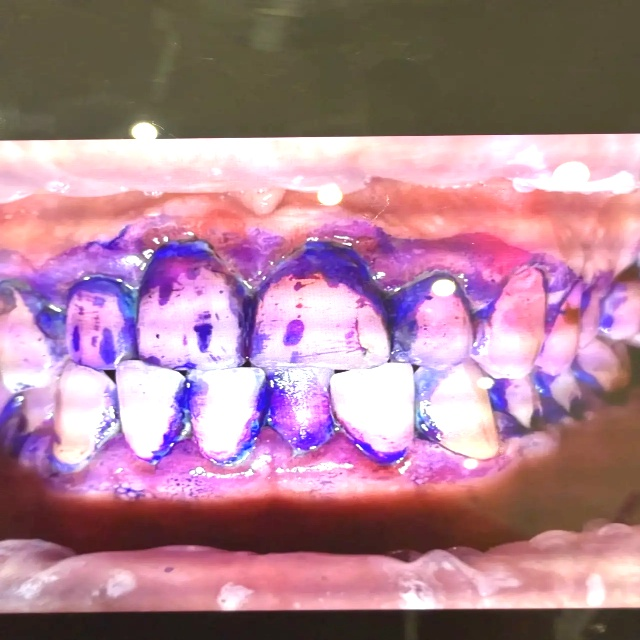clean_tooth: (118, 122, 181, 155), (554, 163, 588, 187)
plaque: (0, 250, 639, 480)
